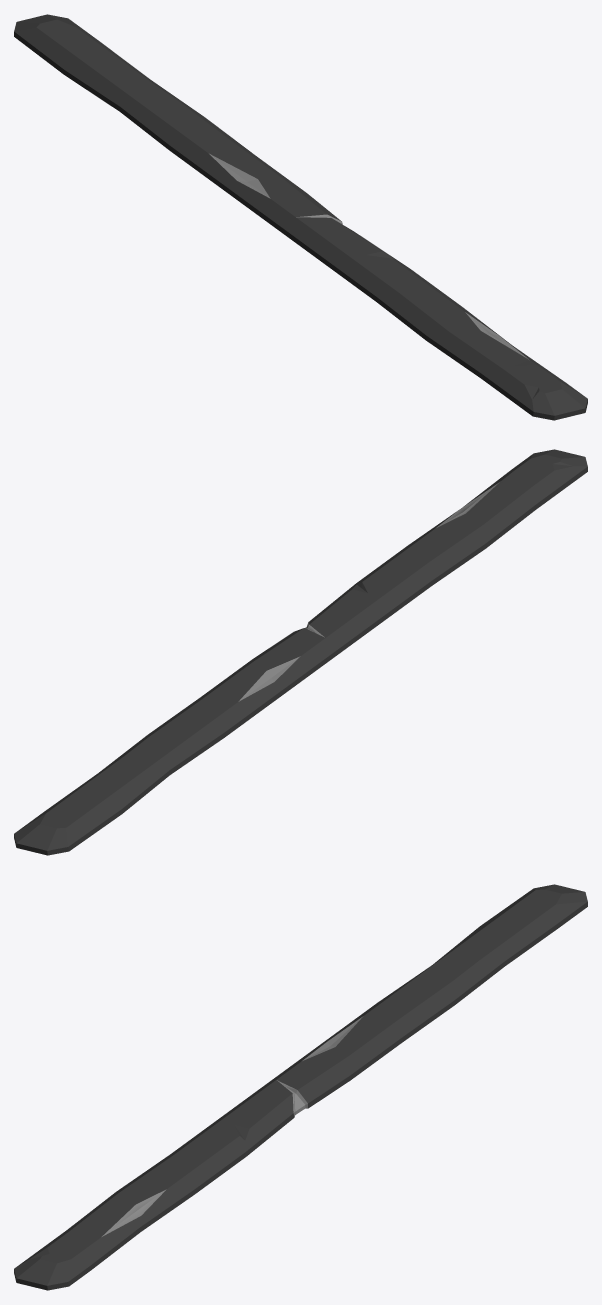
Rendered from SM_Env_Road_SpeedBump_01.glb.
3 renders of one model, top to bottom at view 1: azimuth 30°, elevation 25°; view 2: azimuth 150°, elevation 25°; view 3: azimuth 330°, elevation 25°, orthographic.
Visible parts, largest first — view 1: SM_Env_Road_SpeedBump_01; view 2: SM_Env_Road_SpeedBump_01; view 3: SM_Env_Road_SpeedBump_01.
Part boxes in pixels (x1=…): SM_Env_Road_SpeedBump_01: x1=14, y1=14, x2=587, y2=420; SM_Env_Road_SpeedBump_01: x1=14, y1=449, x2=587, y2=855; SM_Env_Road_SpeedBump_01: x1=14, y1=884, x2=587, y2=1290.
Bounding box in the file's own units: 0.5579 × 0.1227 × 8.87.
1 material, 1 textured.
